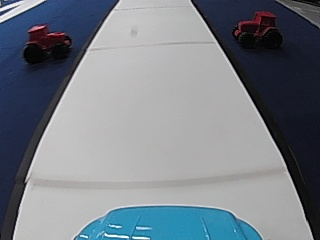tractor: (230, 8, 283, 50), (21, 21, 71, 63)
